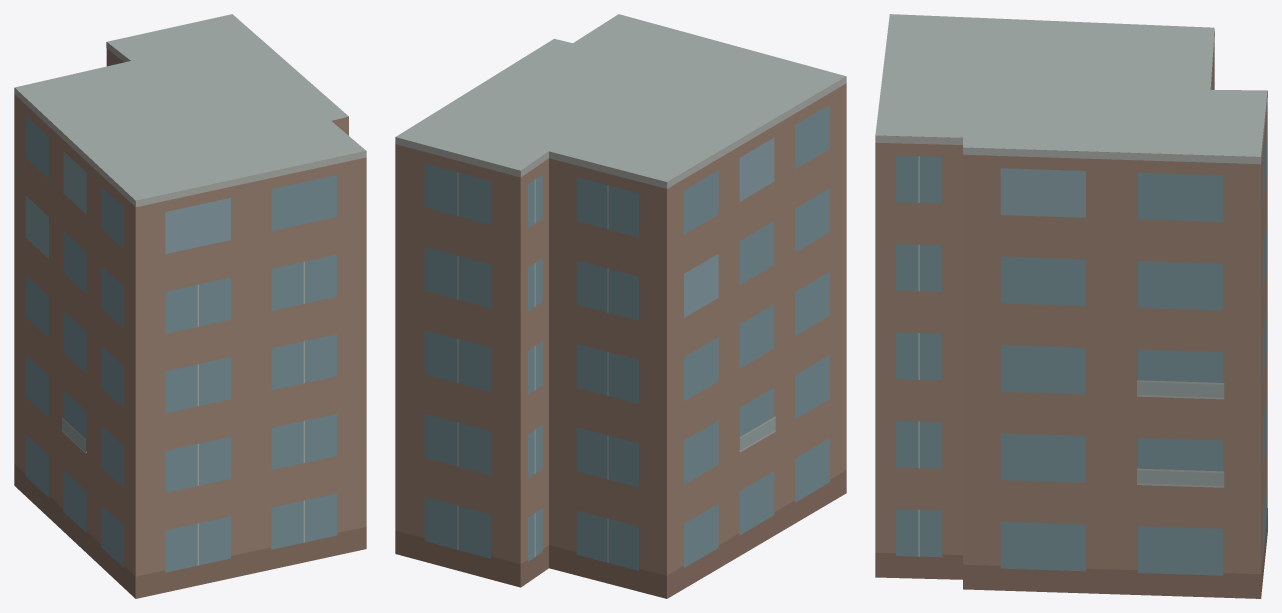
Rendered from survey-upis-32770061.glb.
3 views of the same model, side by side, from view 1: azimuth 30°, elevation 25°; view 2: azimuth 150°, elevation 25°; view 3: azimuth 270°, elevation 25° (orthographic). The views are drawn at different scales.
Parts seen in each view (by area): view 1: survey-upis-32770061.tmp; view 2: survey-upis-32770061.tmp; view 3: survey-upis-32770061.tmp.
Boxes of the visible parts, bbox=[...] form: survey-upis-32770061.tmp: bbox=[14, 14, 366, 598]; survey-upis-32770061.tmp: bbox=[395, 14, 846, 598]; survey-upis-32770061.tmp: bbox=[875, 14, 1267, 598].
Size of the model in its own units: 10.28 by 14.8 by 11.92.
